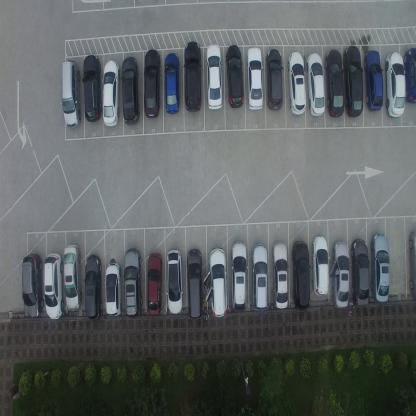car: (21, 252, 43, 319), (60, 59, 81, 129), (343, 45, 363, 118), (370, 232, 390, 304), (229, 239, 248, 313), (385, 50, 405, 119), (183, 41, 202, 113), (325, 48, 344, 119), (121, 57, 140, 127), (82, 54, 101, 124), (209, 247, 228, 317), (286, 50, 306, 116), (185, 249, 203, 322), (83, 253, 102, 322), (44, 252, 63, 321), (350, 238, 369, 306), (143, 48, 161, 118), (292, 240, 310, 310), (271, 240, 289, 310), (124, 245, 141, 319), (306, 52, 325, 118), (250, 243, 268, 312), (364, 50, 384, 112), (63, 242, 81, 310), (165, 249, 183, 316), (102, 57, 119, 127), (226, 44, 244, 109), (332, 240, 349, 308), (266, 49, 283, 113), (206, 43, 222, 110), (146, 252, 162, 318), (312, 234, 329, 296), (104, 261, 122, 319), (246, 46, 262, 111), (164, 50, 180, 114), (403, 47, 416, 104), (408, 227, 416, 301)
